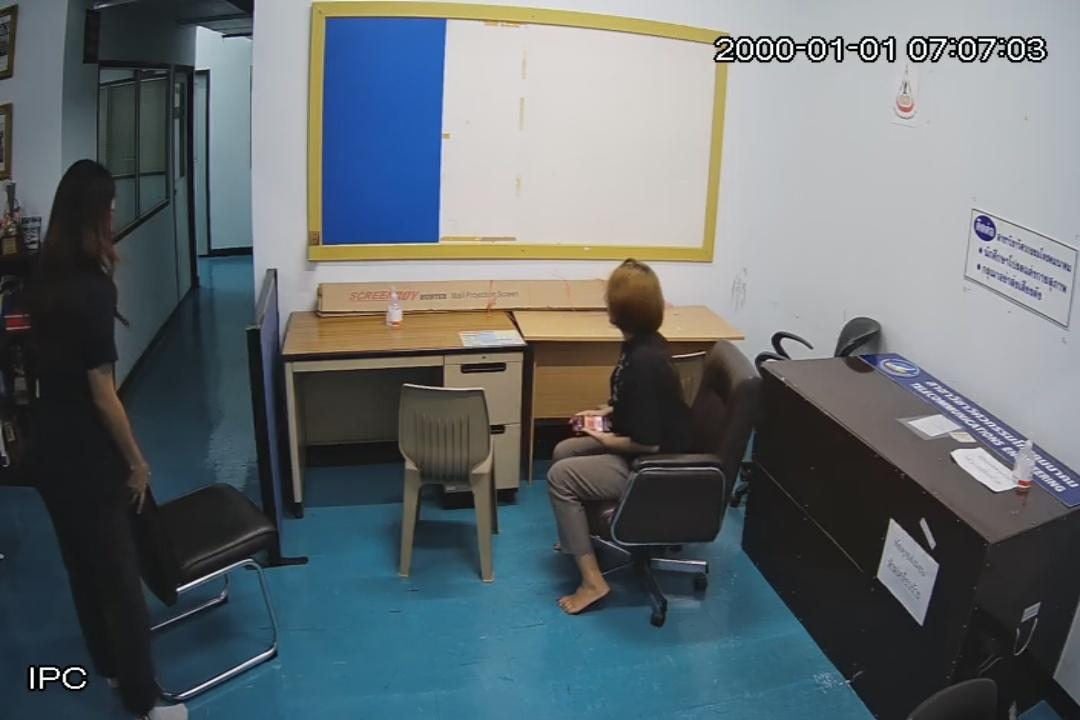normal: (22, 152, 162, 720), (550, 256, 690, 620)
